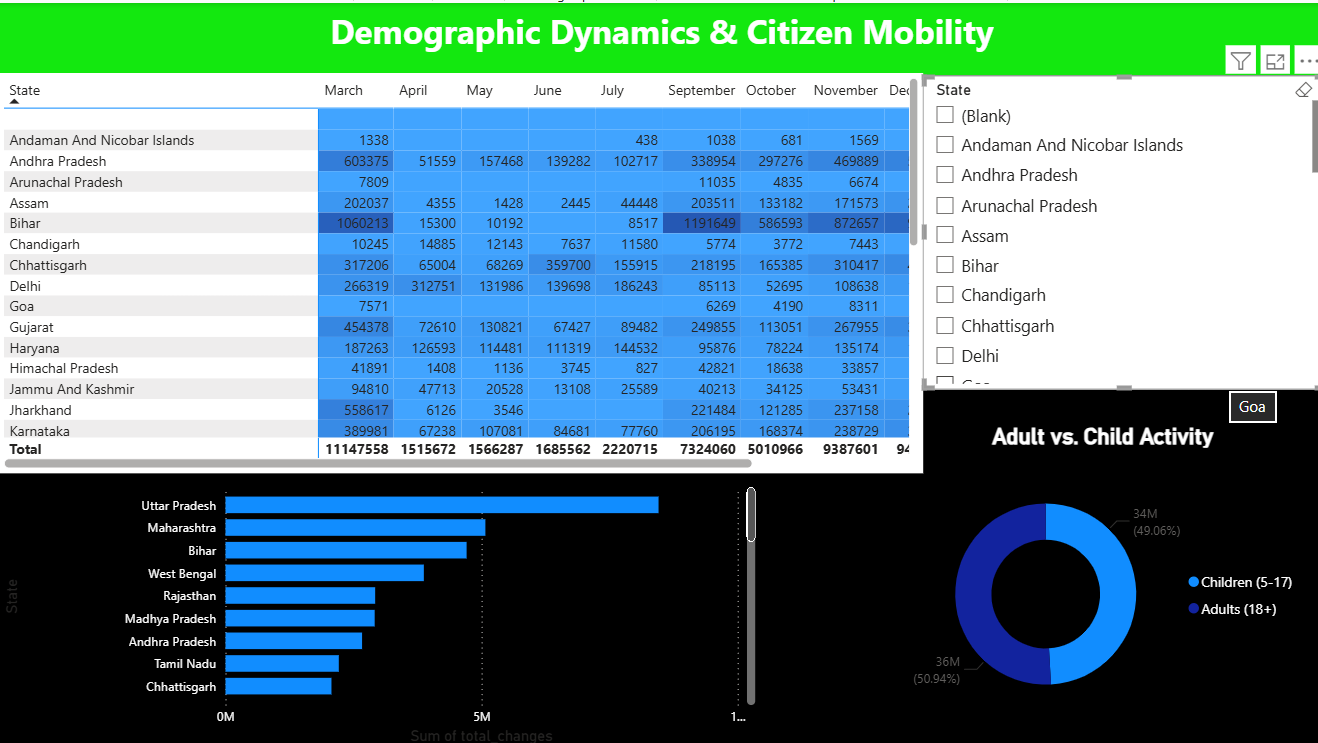

What the dashboard file says about the page in this screenshot:
{"tool":"powerbi","page":{"name":"Page 3","canvas":[1280,720],"ordinal":2},"visuals":[{"type":"textbox","box":[0,0,1279.7,69.2],"z":0},{"type":"donutChart","title":"Adult vs. Child Activity","fields":{"Y":["Sum(biomatric_dataset.bio_age_5_17)","Sum(biomatric_dataset.bio_age_17_greater)"]},"box":[869.2,404.8,393.6,306.7],"z":1000},{"type":"clusteredBarChart","fields":{"Category":["Master_District_List.State"],"Y":["Sum(demographic_dataset.total_changes)"]},"box":[0,454.5,735.1,265.7],"z":2000},{"type":"pivotTable","fields":{"Rows":["Master_District_List.State"],"Columns":["demographic_dataset.date.Variation.Date Hierarchy.Month"],"Values":["Sum(demographic_dataset.total_changes)"]},"box":[0,68.1,892.2,386.4],"z":3000},{"type":"slicer","fields":{"Values":["Master_District_List.State"]},"box":[891.6,69.5,388.7,303],"z":4000},{"type":"pageNavigator","box":[499.2,686.7,403.6,33.5],"z":5000}]}

Visuals, with their boxes in screenshot pixels (x1, y1, x2, y2), scaled from the page's 1280x720 canvas onto the 1318x743 screenshot:
textbox: box(0, 0, 1317, 71)
"Adult vs. Child Activity" donutChart: box(895, 418, 1300, 734)
clusteredBarChart - Master_District_List.State x Sum(demographic_dataset.total_changes): box(0, 469, 757, 742)
pivotTable - Master_District_List.State x demographic_dataset.date.Variation.Date Hierarchy.Month: box(0, 70, 919, 469)
slicer - Master_District_List.State: box(918, 72, 1317, 384)
pageNavigator: box(514, 709, 930, 742)
